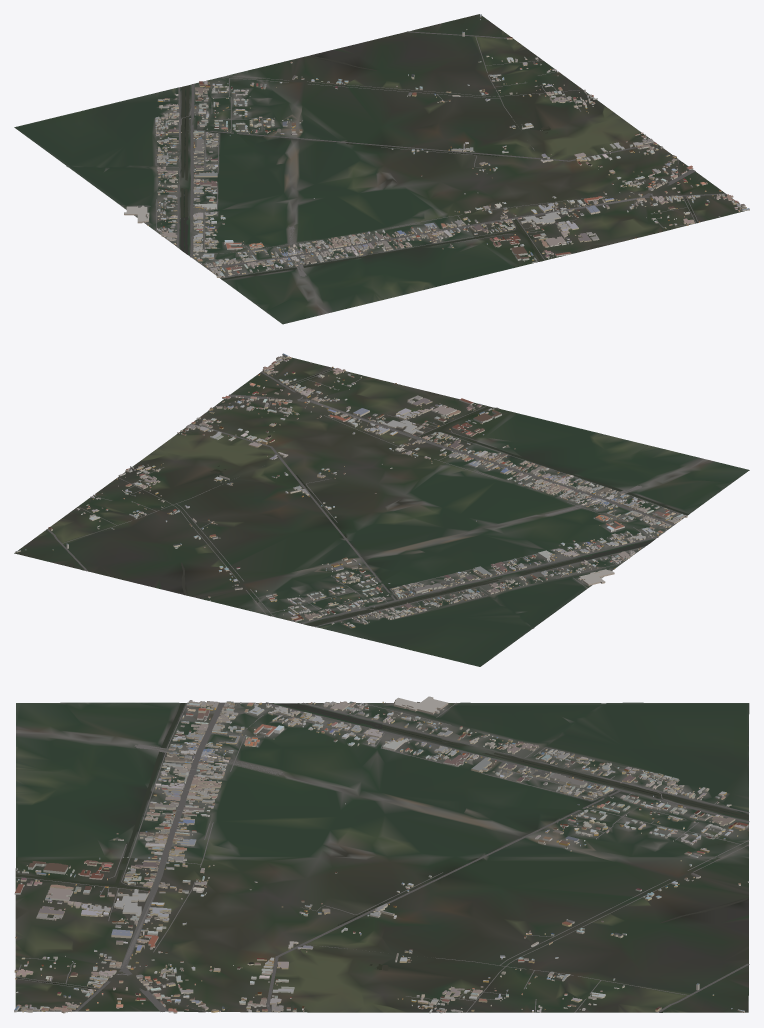
The picture shows the model from 3 angles, top to bottom: view 1: azimuth 30°, elevation 25°; view 2: azimuth 150°, elevation 25°; view 3: azimuth 270°, elevation 25°; orthographic projection. The views are drawn at different scales.
Parts seen in each view (by area): view 1: ground, buildings, roads, water; view 2: ground, buildings, roads, water; view 3: ground, buildings, roads, water.
Boxes of the visible parts, x1,y1,x2,y2 form: ground: (14, 14, 744, 324); buildings: (124, 14, 749, 277); roads: (127, 31, 726, 278); water: (180, 56, 697, 279); ground: (14, 356, 749, 666); buildings: (15, 353, 687, 627); roads: (46, 368, 683, 627); water: (181, 368, 688, 625); ground: (15, 702, 749, 1012); buildings: (14, 696, 749, 1013); roads: (16, 702, 749, 1012); water: (16, 703, 748, 1011).
Size of the model in its own units: 2857 by 27.9 by 2812.
